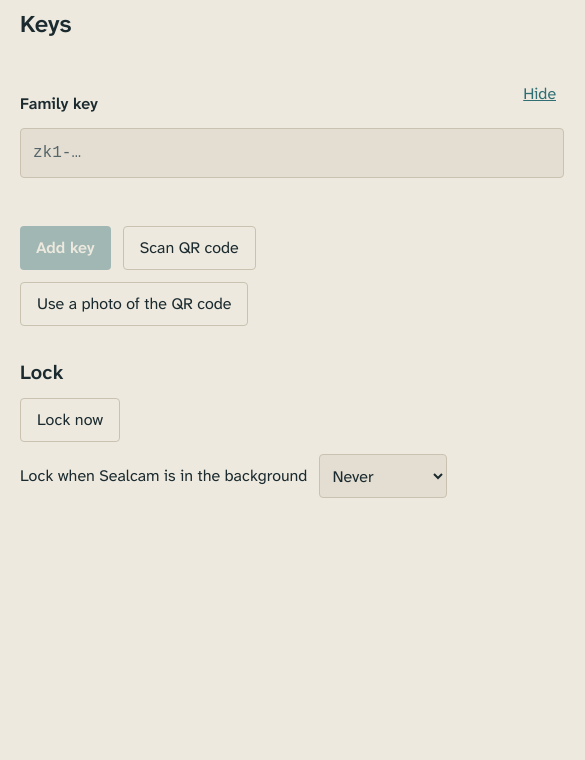
Test: Keys page › lists an imported key with its fingerprint and "Only for now"
In the field labelled "Family key": (292, 153) 20,128 -> 564,178, type "zk1-000102030405060708090a0b0c0d0e0f101112131415161718191a1b1c1d1e1f-2418"
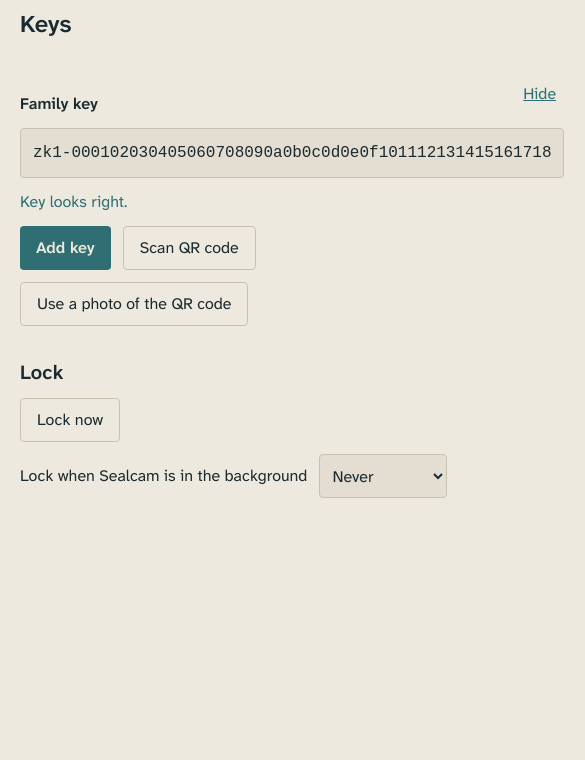
Click the button "Add key": (65, 248) 20,226 -> 111,270
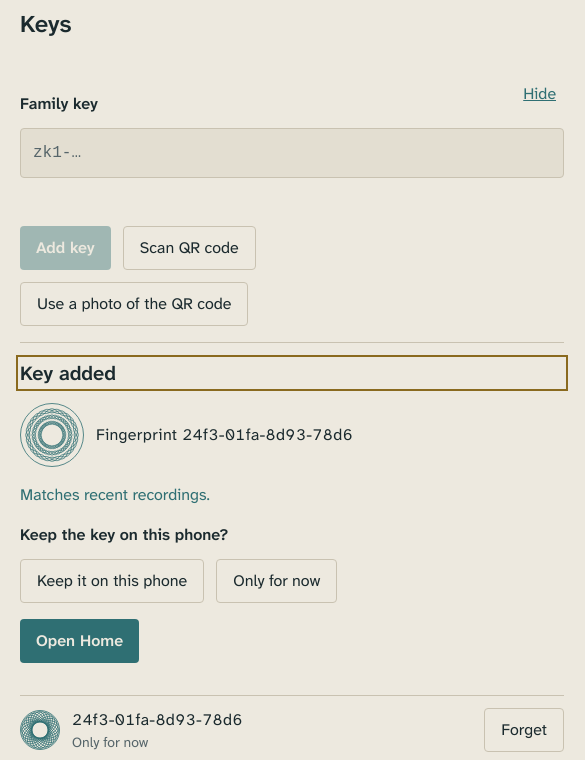
Check: the heading "Key added" is shown, box 20,360 -> 116,386
Check: the text "Only for now" is shown, box 72,733 -> 148,751
